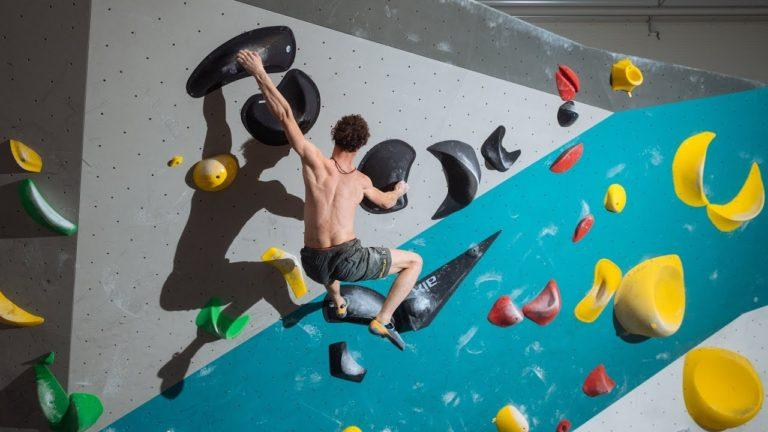black-hold: (387, 210, 501, 343), (653, 120, 768, 242), (12, 350, 109, 432), (186, 26, 296, 98), (683, 347, 763, 430), (613, 255, 685, 337), (701, 160, 768, 241), (354, 127, 426, 199), (8, 175, 79, 247), (269, 62, 335, 134), (567, 255, 627, 328), (427, 140, 480, 219), (668, 128, 714, 207), (258, 239, 316, 301), (192, 293, 250, 347), (316, 336, 369, 392), (520, 278, 573, 332), (474, 124, 526, 176), (188, 150, 243, 195), (600, 54, 648, 101), (0, 292, 44, 341), (1, 134, 47, 178), (481, 292, 525, 336), (578, 363, 620, 405), (548, 137, 588, 179), (600, 181, 630, 215), (493, 405, 528, 431), (552, 99, 581, 129), (555, 64, 579, 100), (572, 214, 594, 243), (165, 152, 185, 169), (556, 419, 571, 431), (342, 426, 361, 431)
